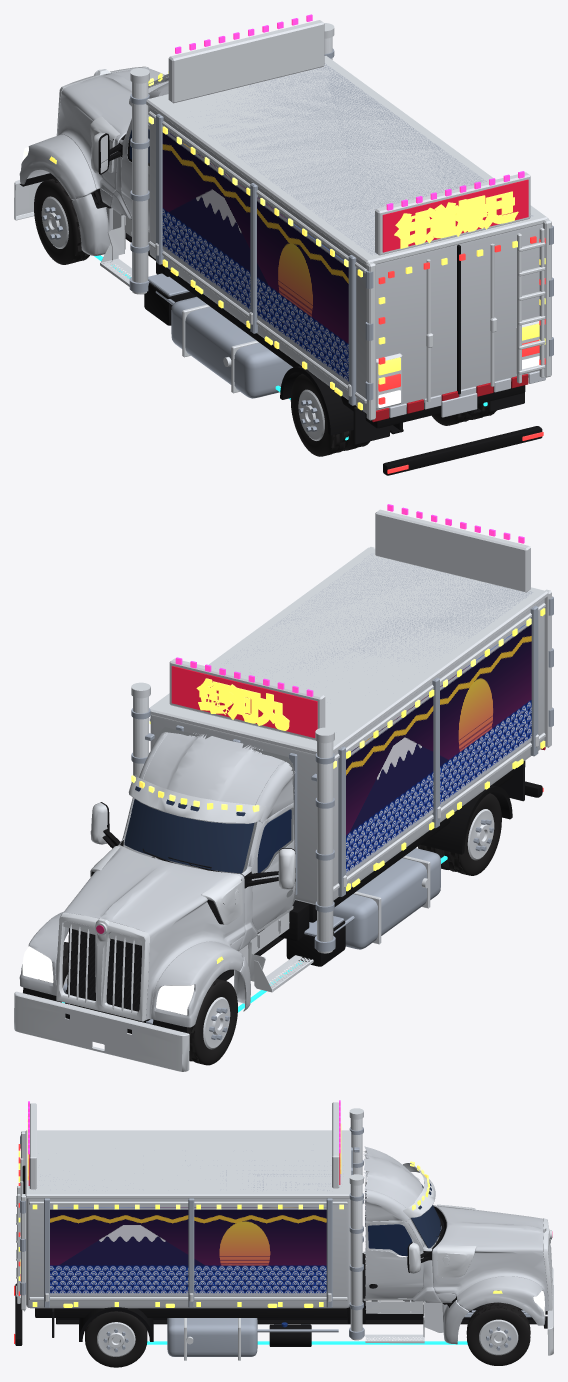
File: dekotora_truck_leve_americana.glb
The picture shows the model from 3 angles, top to bottom: view 1: azimuth 30°, elevation 25°; view 2: azimuth 150°, elevation 25°; view 3: azimuth 270°, elevation 25°; orthographic projection. The views are drawn at different scales.
Parts seen in each view (by area): view 1: truck_chrome, truck_paint_white_panel, truck_steel, truck_mural, truck_plastic_black, truck_lamp_amber, wheel_f_L, wheel_r_L_1.5_1.06, truck_andon_panel, truck_paint_white, truck_lamp_red, truck_rubber (+2 smaller); view 2: truck_chrome, truck_paint_white_panel, truck_mural, truck_steel, truck_plastic_black, truck_glass_wind, truck_lamp_amber, truck_andon_panel, wheel_f_L, wheel_r_L_1.5_1.06, truck_lamp_white, truck_glass (+1 smaller); view 3: truck_chrome, truck_paint_white_panel, truck_mural, truck_plastic_black, truck_steel, wheel_f_R, wheel_r_R_1.5_1.06, truck_glass, truck_lamp_amber, truck_glass_wind, truck_lamp_cyan, truck_lamp_yellow.
Part boxes in pixels (bbox=[...]): truck_chrome: bbox=[14, 20, 551, 420]; truck_paint_white_panel: bbox=[19, 68, 542, 413]; truck_steel: bbox=[88, 48, 553, 405]; truck_mural: bbox=[162, 132, 348, 384]; truck_plastic_black: bbox=[20, 129, 542, 475]; truck_lamp_amber: bbox=[49, 73, 545, 410]; wheel_f_L: bbox=[34, 178, 89, 264]; wheel_r_L_1.5_1.06: bbox=[290, 373, 350, 456]; truck_andon_panel: bbox=[382, 179, 528, 252]; truck_paint_white: bbox=[389, 371, 545, 417]; truck_lamp_red: bbox=[378, 236, 545, 473]; truck_rubber: bbox=[353, 392, 524, 444]; truck_chrome: bbox=[14, 509, 551, 1071]; truck_paint_white_panel: bbox=[19, 599, 544, 1027]; truck_mural: bbox=[346, 624, 531, 875]; truck_steel: bbox=[63, 554, 553, 1024]; truck_plastic_black: bbox=[23, 761, 542, 1033]; truck_glass_wind: bbox=[124, 786, 254, 873]; truck_lamp_amber: bbox=[139, 608, 545, 963]; truck_andon_panel: bbox=[171, 666, 317, 737]; wheel_f_L: bbox=[186, 979, 237, 1065]; wheel_r_L_1.5_1.06: bbox=[441, 793, 501, 875]; truck_lamp_white: bbox=[22, 946, 194, 1015]; truck_glass: bbox=[257, 809, 291, 872]; truck_chrome: bbox=[16, 1102, 553, 1360]; truck_paint_white_panel: bbox=[26, 1146, 548, 1344]; truck_mural: bbox=[50, 1207, 326, 1295]; truck_plastic_black: bbox=[15, 1165, 547, 1346]; truck_steel: bbox=[20, 1127, 531, 1356]; wheel_f_R: bbox=[466, 1302, 530, 1365]; wheel_r_R_1.5_1.06: bbox=[85, 1311, 147, 1367]; truck_glass: bbox=[365, 1185, 412, 1256]; truck_lamp_amber: bbox=[18, 1116, 502, 1307]; truck_glass_wind: bbox=[411, 1183, 441, 1248]; truck_lamp_cyan: bbox=[147, 1341, 467, 1344]; truck_lamp_yellow: bbox=[53, 1161, 429, 1210].
Size of the model in its own units: 2.85 by 3.91 by 8.98.
20 materials, 4 textured.
